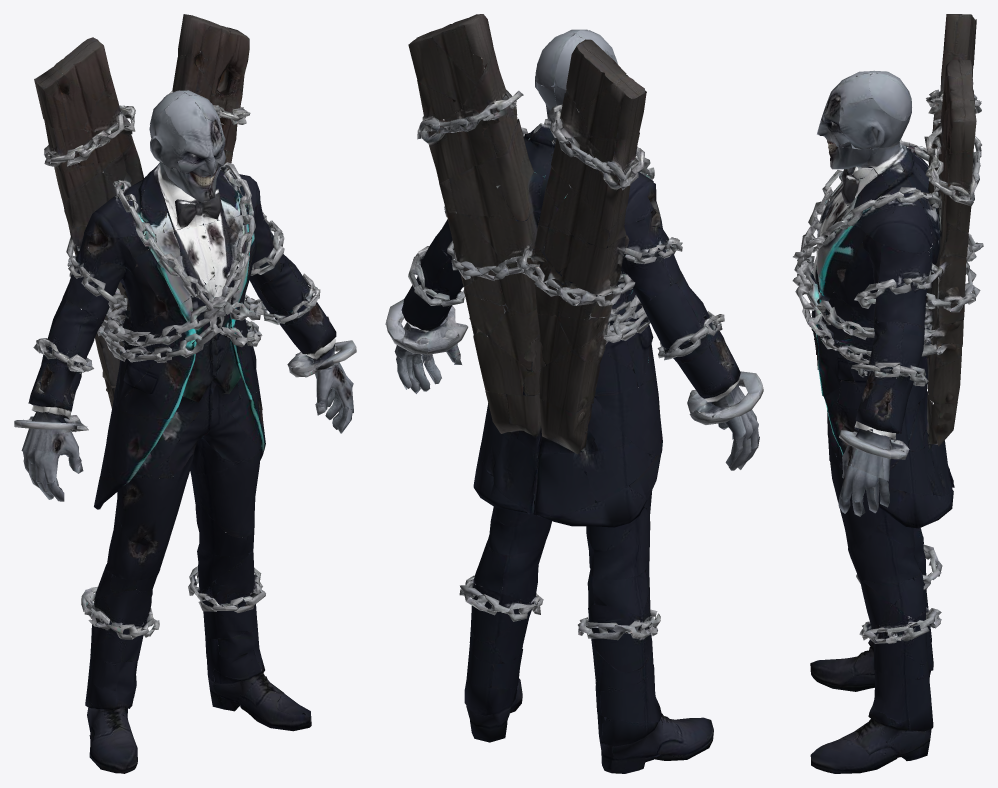
The model's file is 17_coffin_escape_artist.glb.
The picture shows the model from 3 angles, left to right: view 1: azimuth 30°, elevation 25°; view 2: azimuth 150°, elevation 25°; view 3: azimuth 270°, elevation 25°; orthographic projection. The views are drawn at different scales.
Visible parts, largest first — view 1: mesh_node; view 2: mesh_node; view 3: mesh_node.
Part boxes in pixels (x1=…): mesh_node: x1=14, y1=14, x2=356, y2=773; mesh_node: x1=385, y1=14, x2=763, y2=773; mesh_node: x1=792, y1=14, x2=983, y2=773.
Size of the model in its own units: 0.9885 by 1.9 by 0.4809.
Materials: 1 (1 with a texture image).
